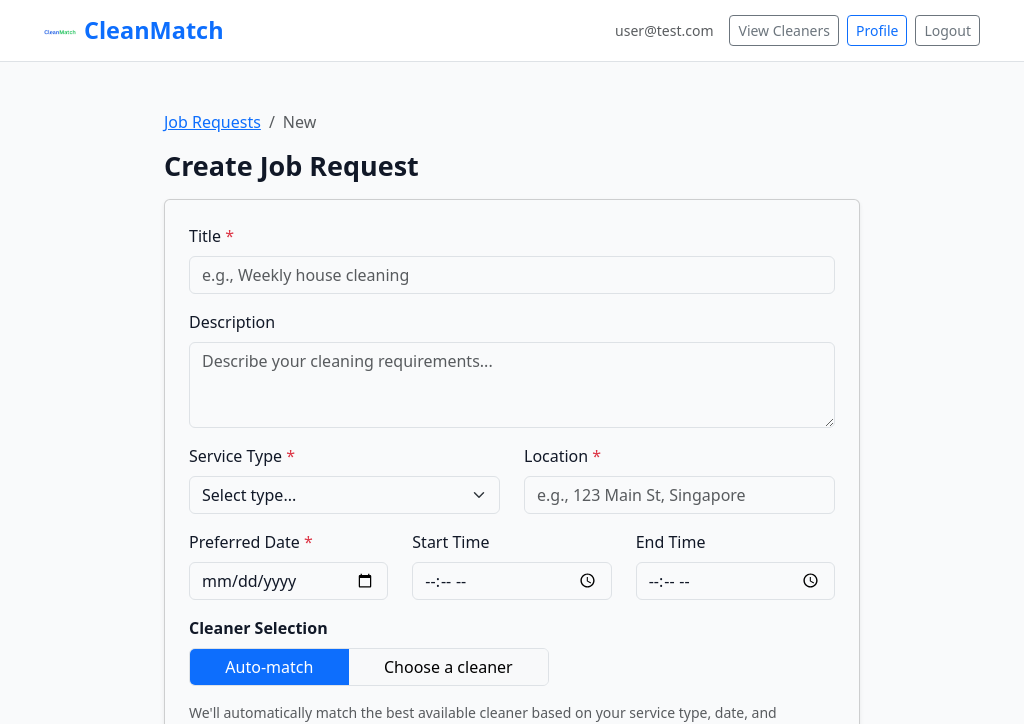
CreateJobRequestPage › shows location required error when title and service type are filled but not location
Step 1. Type "Test Job" into the field with placeholder "e.g., Weekly house cleaning" → point(512, 274), box x1=189 y1=256 x2=835 y2=294
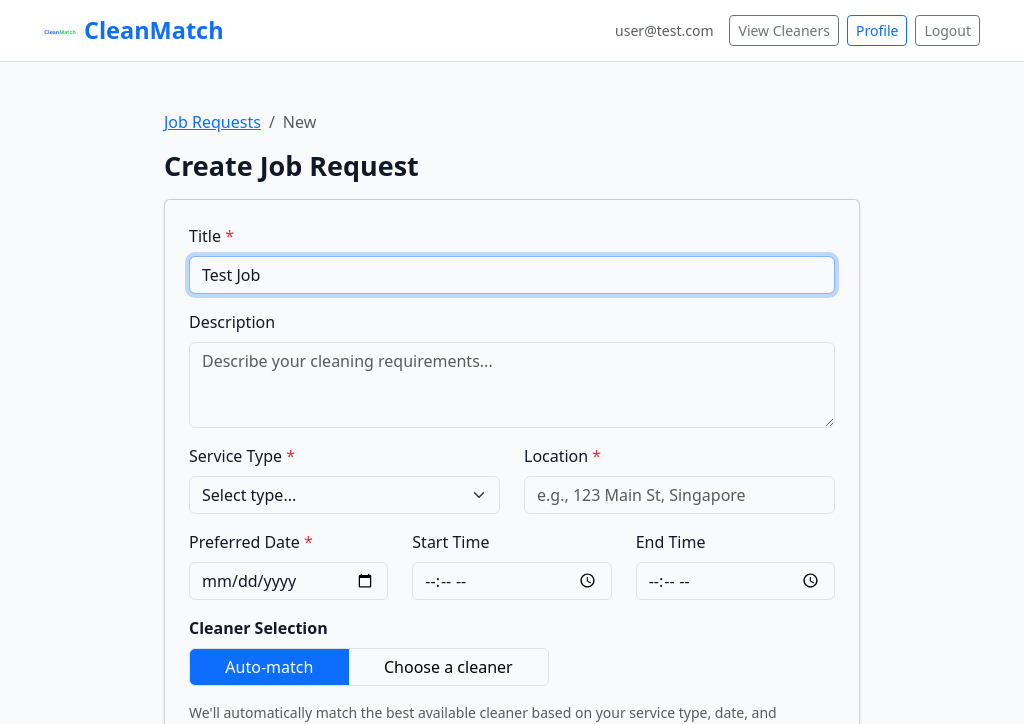
Step 2. Select "Partial Cleaning" in the dropdown → point(344, 494), box x1=189 y1=476 x2=500 y2=514
(page scrolled)
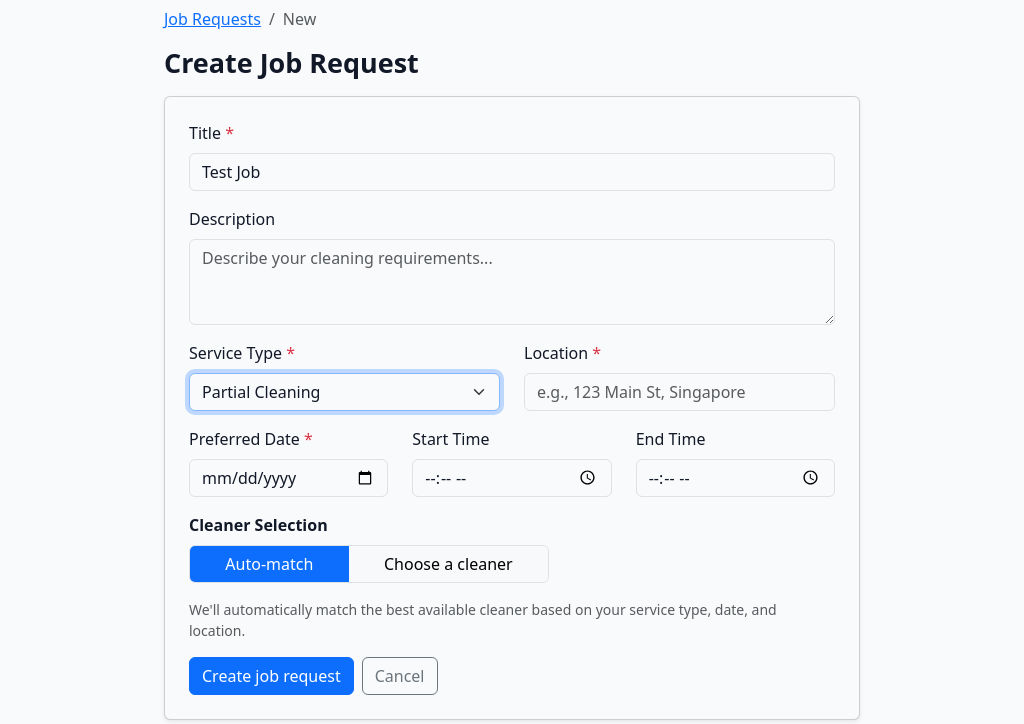
Step 3. Submit the form, box x1=164 y1=96 x2=860 y2=720
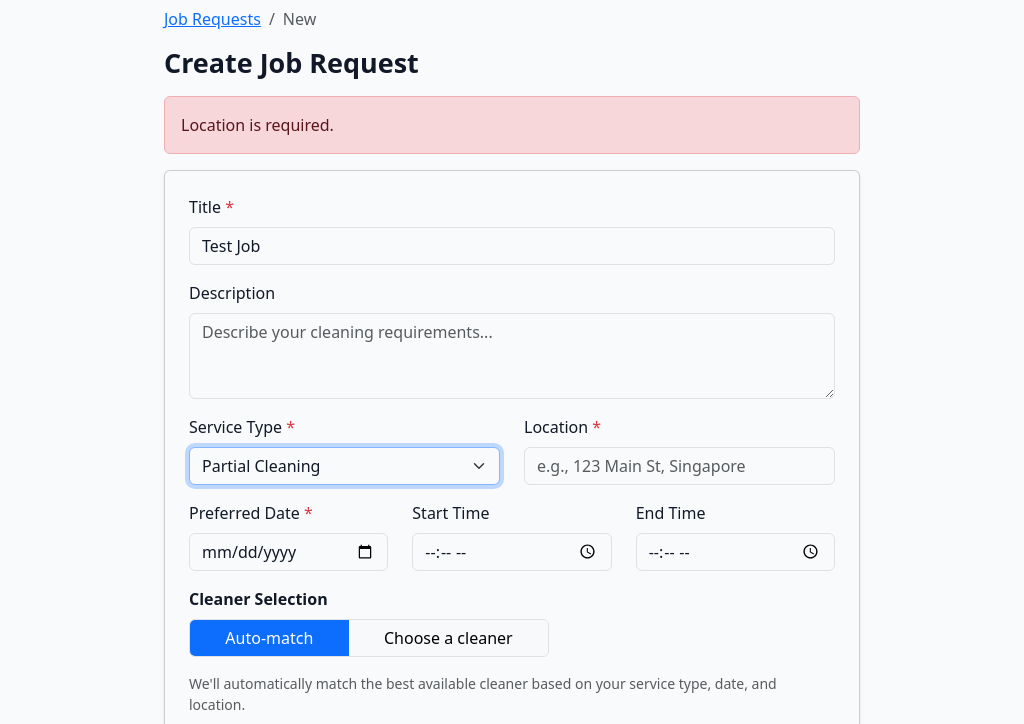
Expected: the text "Location is required." is shown, x1=164 y1=96 x2=860 y2=154
